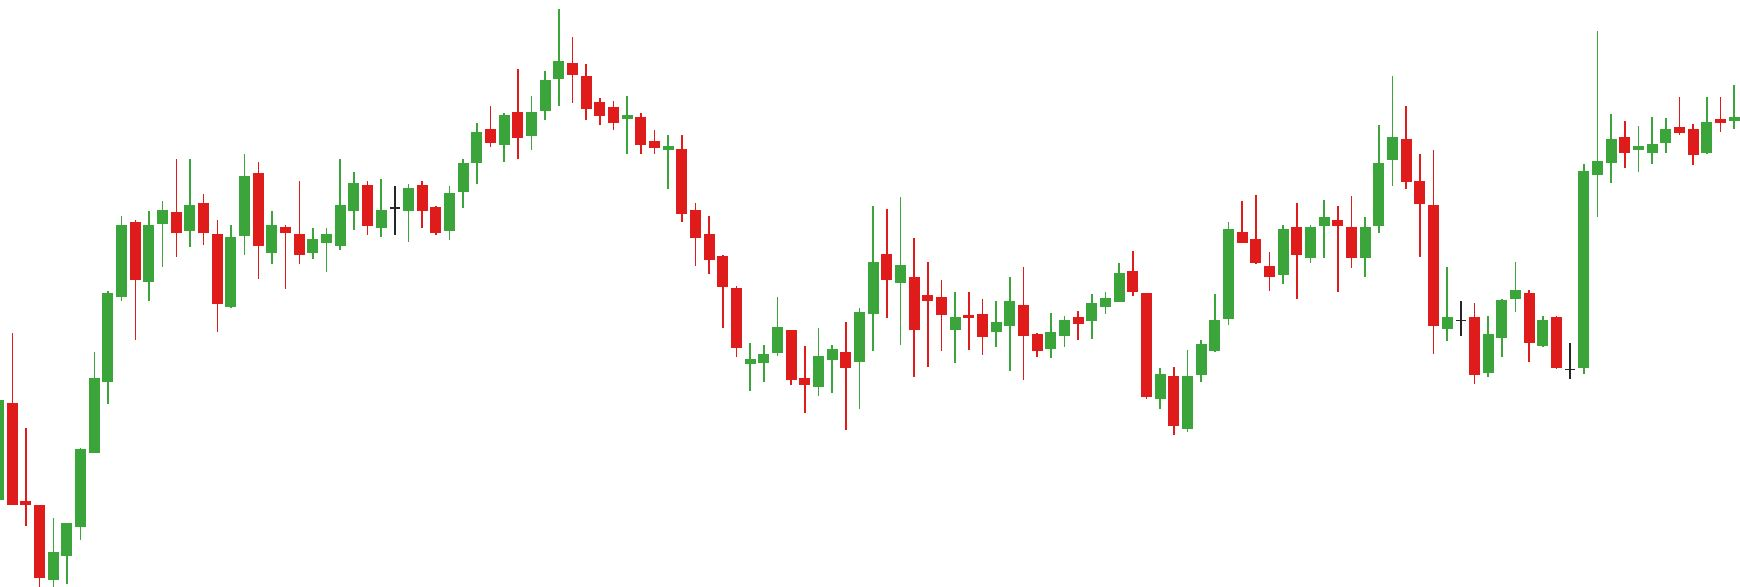buy: (1019, 298, 1169, 419)
